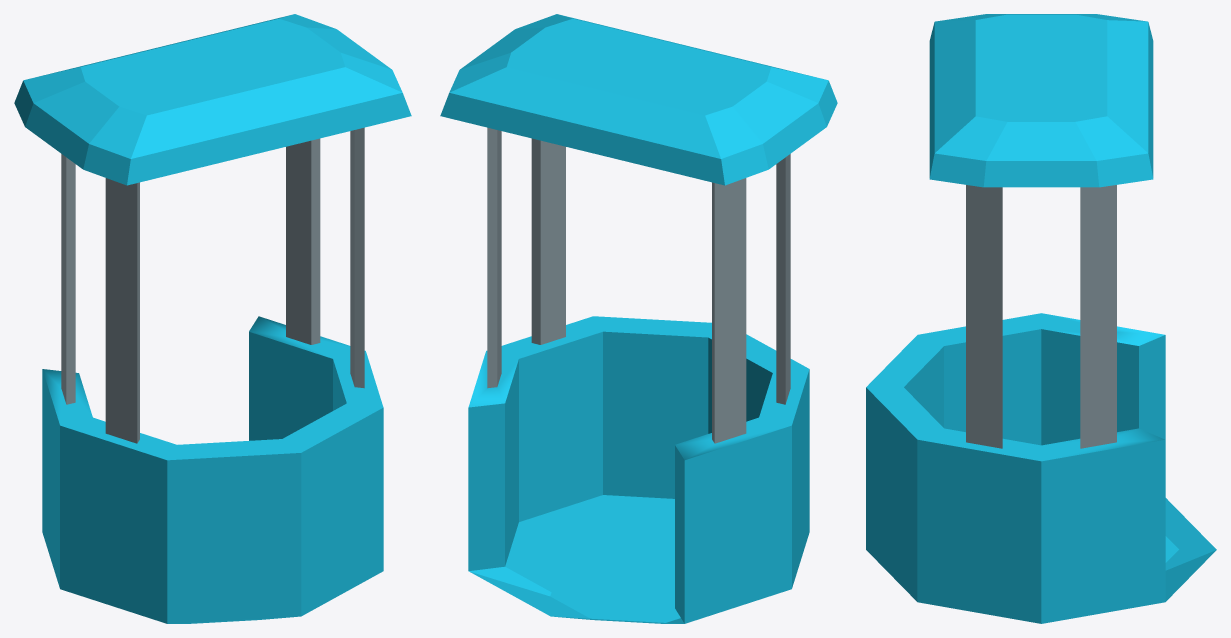
File: wagon.glb
3 views of the same model, side by side, from view 1: azimuth 30°, elevation 25°; view 2: azimuth 150°, elevation 25°; view 3: azimuth 270°, elevation 25° (orthographic).
Visible parts, largest first — view 1: C; view 2: C; view 3: C.
Part boxes in pixels (x1,y1,x2,y2): C: (14,14,411,623); C: (440,14,837,623); C: (866,14,1216,623).
Size of what is drawn, in the model's own units: 1.33 by 2.07 by 1.28.
